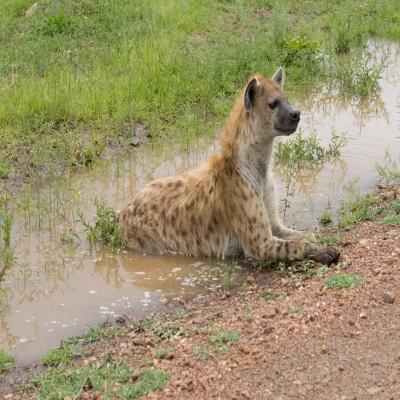hyenas: (106, 50, 391, 322)
